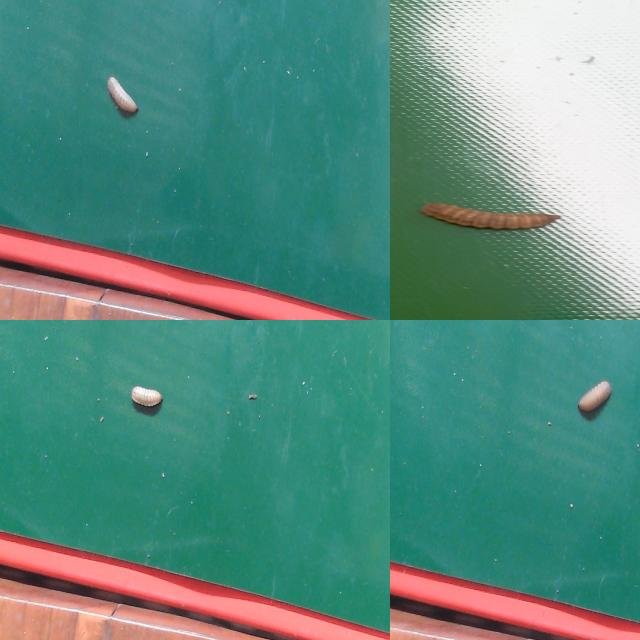Maggot: (419, 204, 558, 233), (105, 72, 148, 123), (576, 381, 613, 422), (131, 386, 163, 416)
